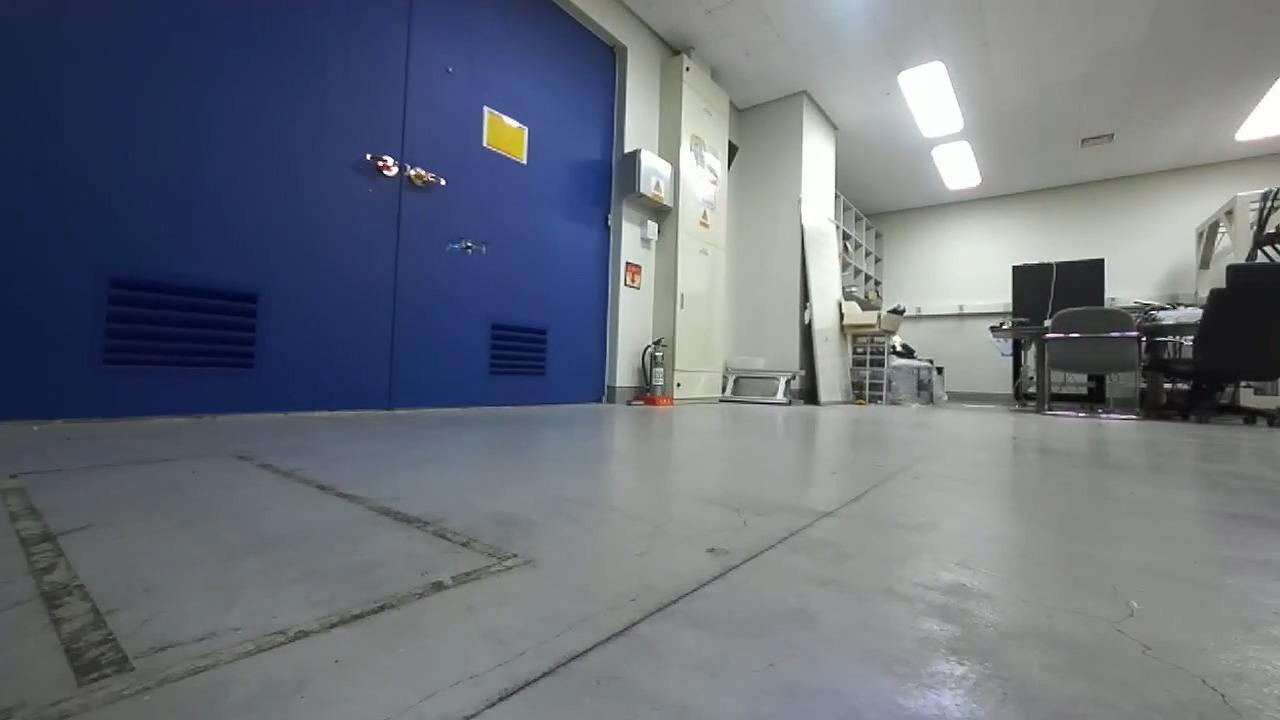crazyflie: (443, 234, 491, 258)
